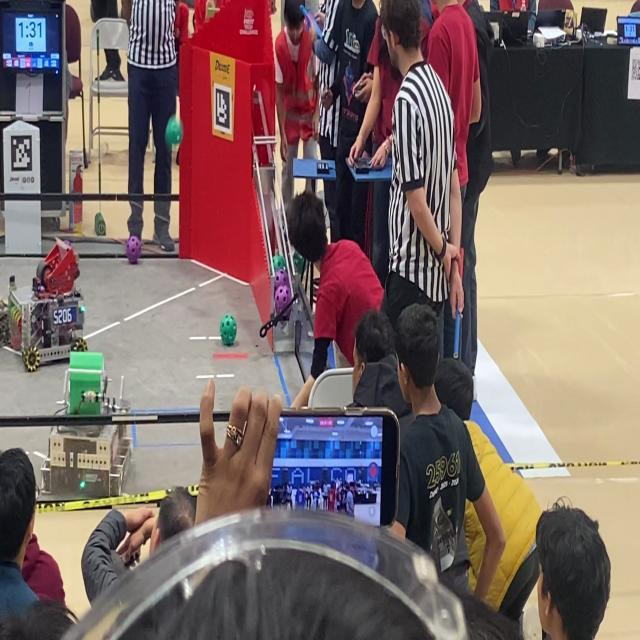artifact_green: (166, 115, 183, 147), (220, 315, 237, 346), (293, 252, 305, 275), (95, 212, 105, 236), (272, 254, 285, 272)
artifact_purple: (126, 236, 141, 264), (275, 269, 289, 289), (64, 240, 72, 248), (285, 313, 288, 319)
